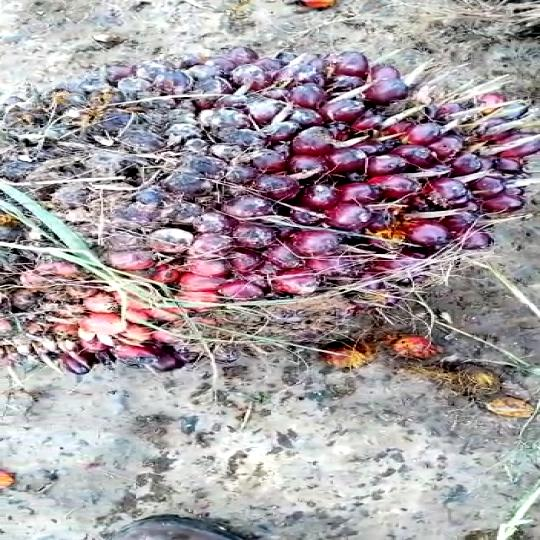kurang masak: (0, 19, 540, 402)
